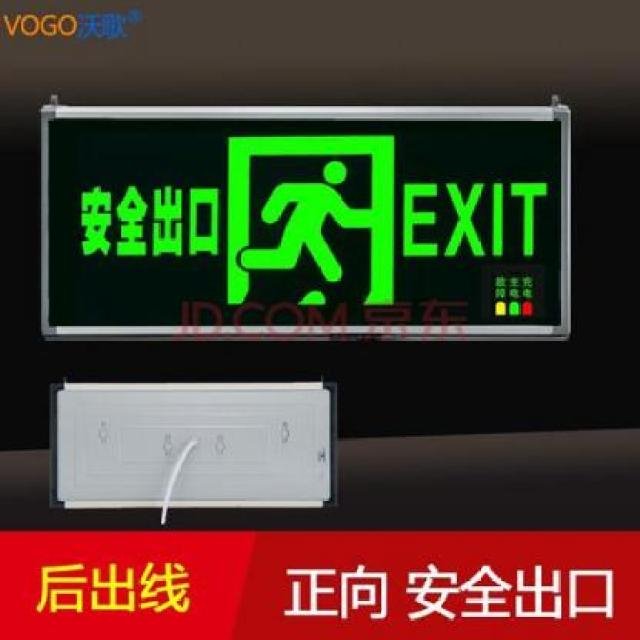exit_sign: (31, 90, 588, 354)
